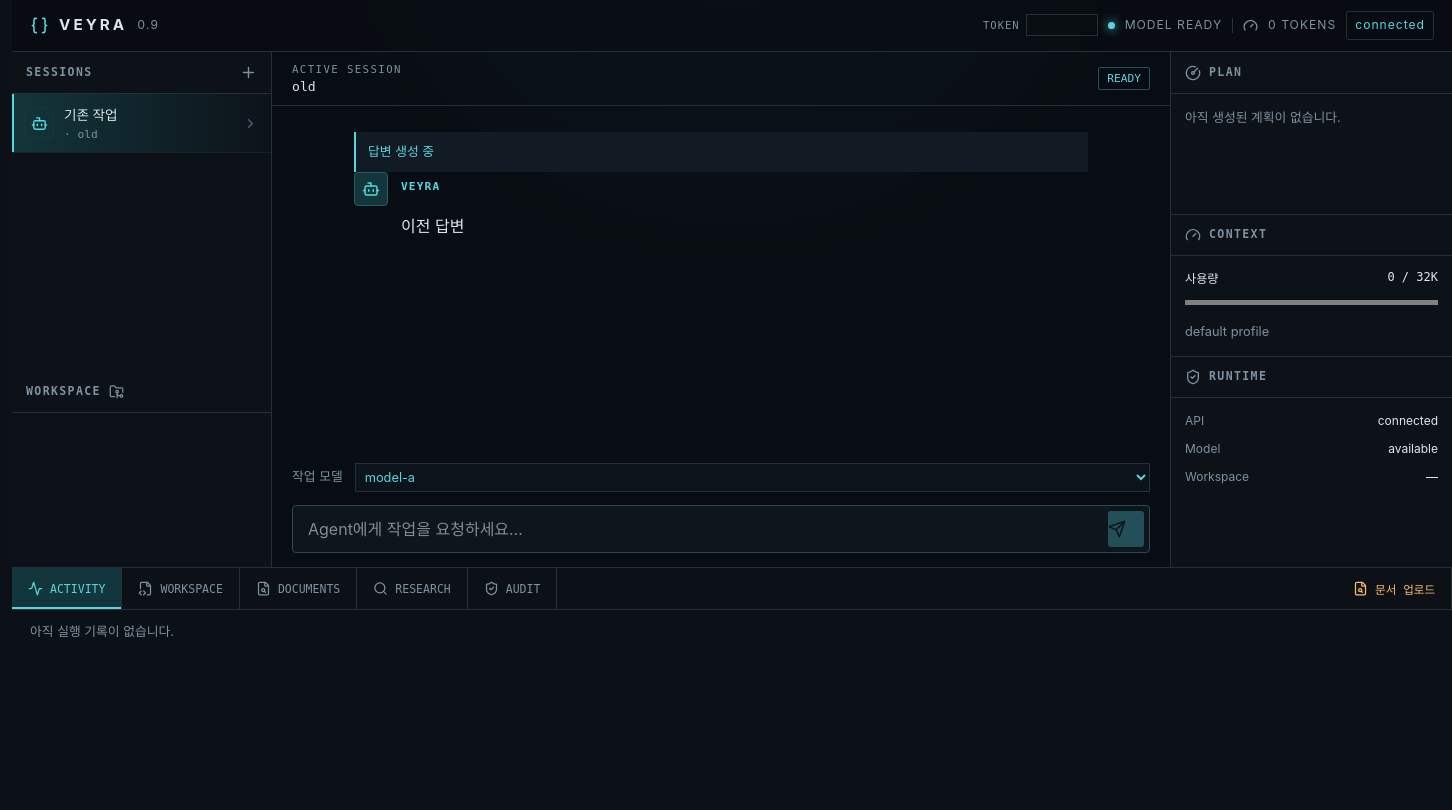
clears replayed output on creation and ignores events from the previous session
The image size is (1452, 810).
Expected: the text "이전 답변" is shown, [401,216,464,236]
Click the button named "새 세션" at [248, 72], box [240,64,257,81]
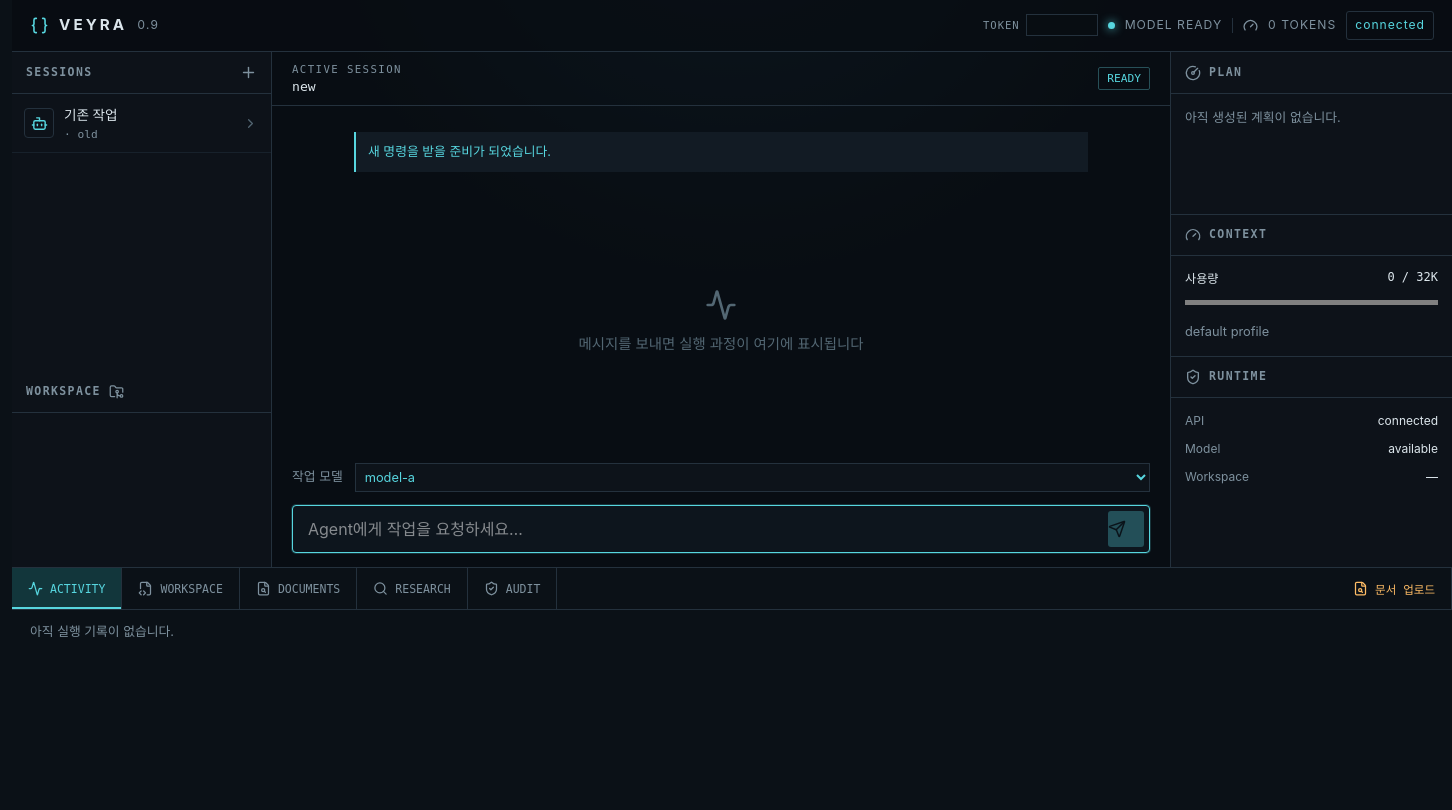
Expected: the field named "Agent 메시지" is empty, [293,506,1103,552]
Expected: the text "이전 답변" is gone
